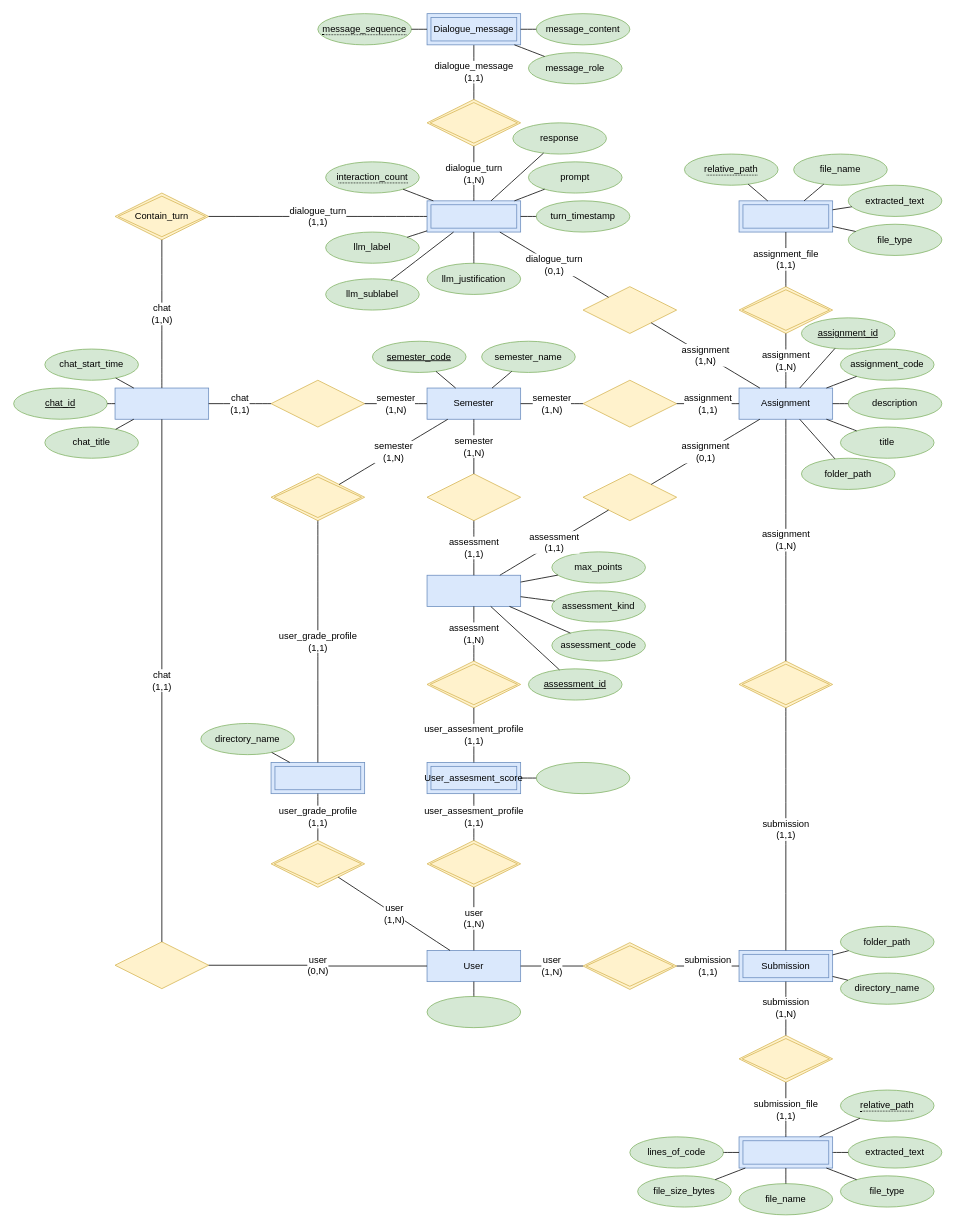
Image size: 955x1229. Some labels were removed from this diagram. Here are the shapes that lost their labels. From the top down, the box of each, then its label:
(426, 99, 521, 146): Contain_message
(426, 200, 521, 232): Dialogue_turn
(738, 200, 833, 232): Assignment_file
(582, 286, 677, 333): About
(738, 286, 833, 333): Has_assignment_file
(114, 387, 209, 419): Chat
(270, 379, 365, 427): Belong_to
(582, 379, 677, 427): Offered_in
(426, 473, 521, 521): defined_in
(582, 473, 677, 521): Linked_assignment
(426, 574, 521, 606): Assessment
(738, 660, 833, 708): Receive_submission
(270, 762, 365, 794): User_grade_profile
(535, 762, 630, 794): normalized_score
(270, 840, 365, 887): Has_grade_profile
(426, 840, 521, 887): Receive_score
(114, 941, 209, 989): Own
(582, 942, 677, 989): Make_submission
(426, 996, 521, 1028): user_id
(738, 1035, 833, 1082): contain_submission_file
(738, 1136, 833, 1168): Submission_file
